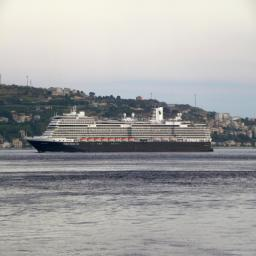cruises: (24, 104, 215, 156)
